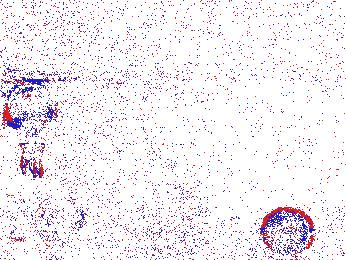flame jellyfish: (4, 80, 60, 178), (34, 195, 86, 250), (262, 210, 312, 256)
